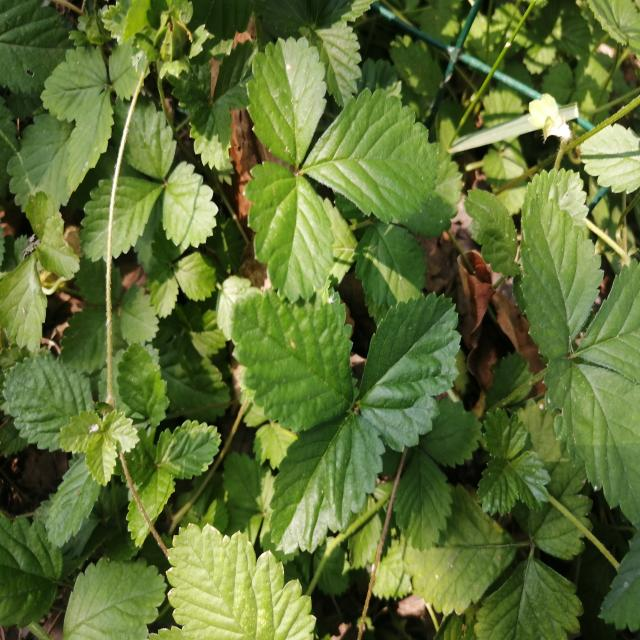Mock_strawberry: (221, 267, 452, 517)
